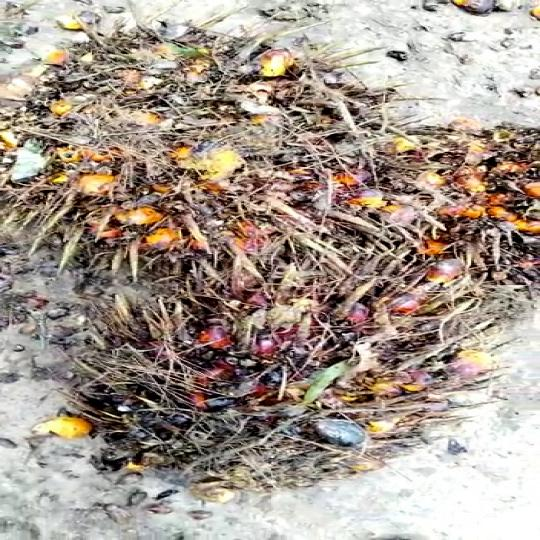terlalu masak: (88, 240, 487, 490), (0, 23, 382, 238)
